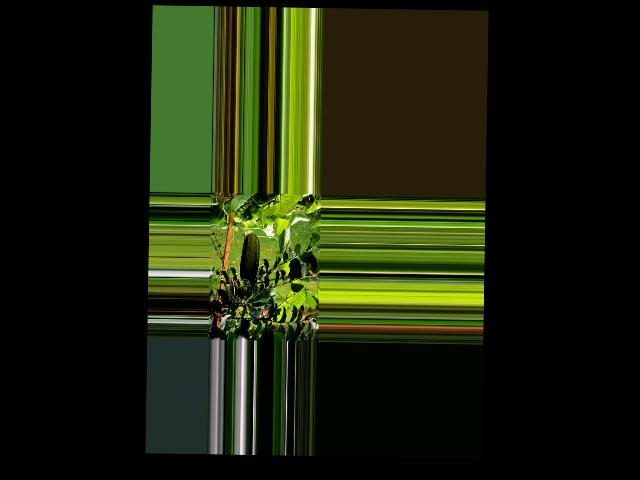cucumber: (238, 233, 259, 286)
